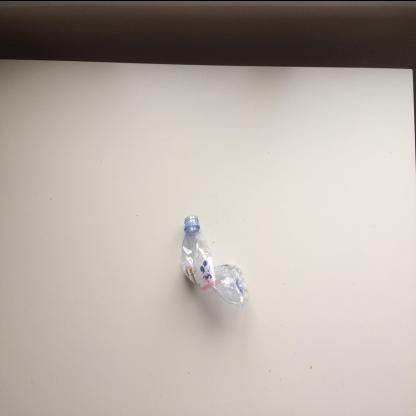plastik: (182, 215, 250, 309)
